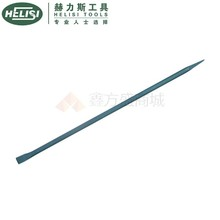straight_bar: (11, 52, 207, 170)
